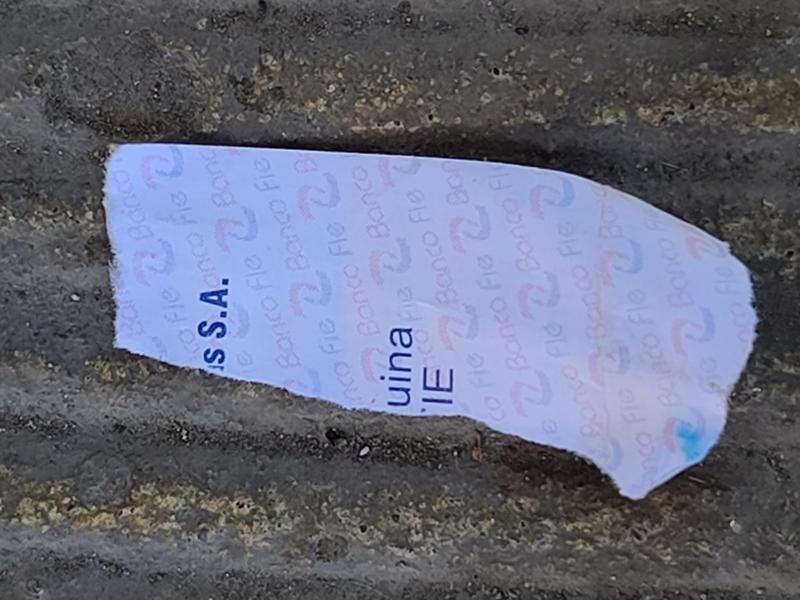papel: (102, 143, 759, 503)
